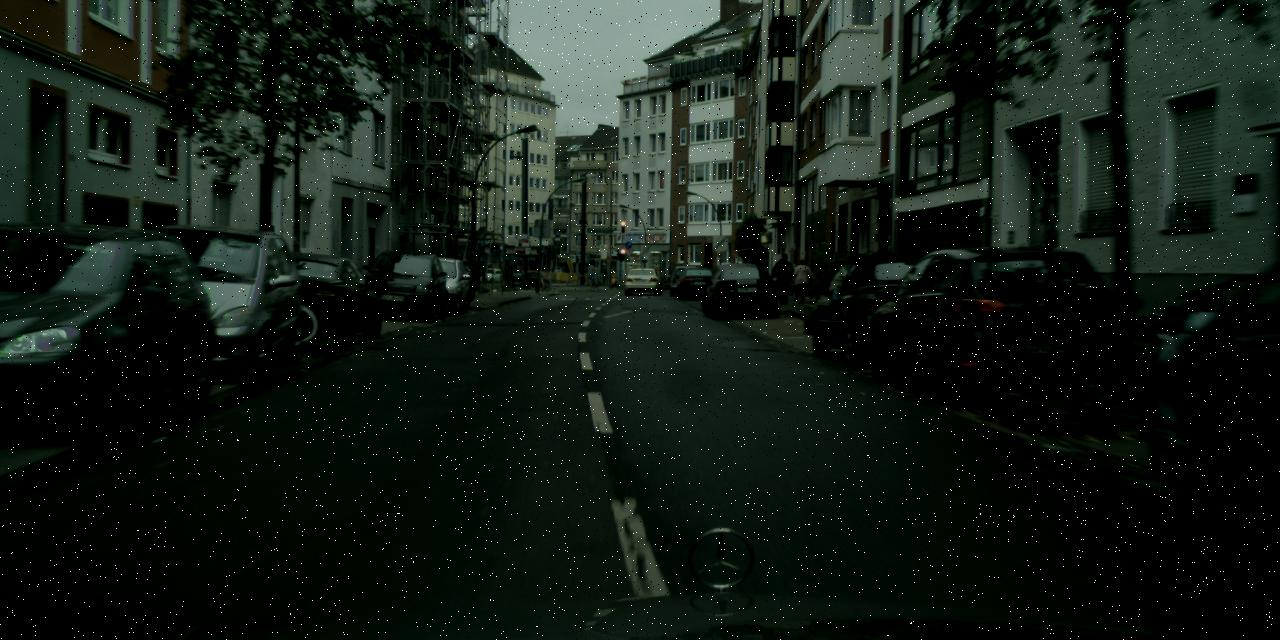ped: (774, 252, 794, 304), (793, 258, 811, 302)
